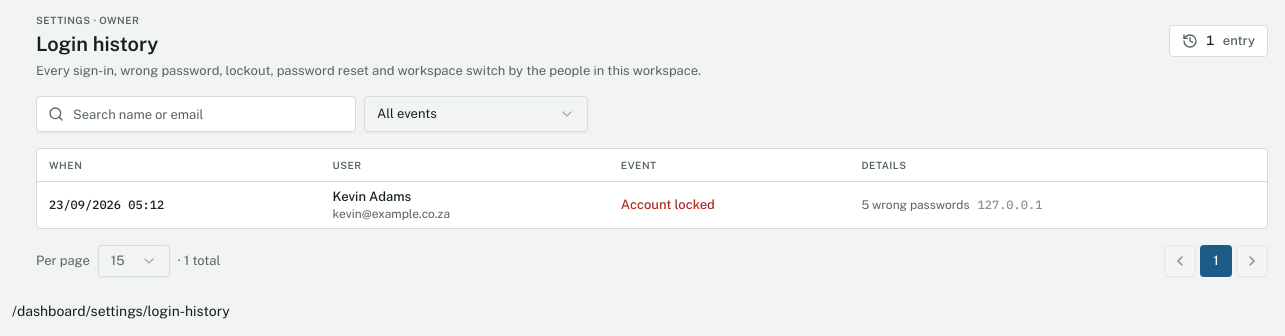
Test: LoginHistoryPage › searches after typing pauses and puts filters in the URL
The image size is (1285, 336).
Step 1. Type "kevin" into the search field labelled "Search name or email" → point(196, 114), box [36,96,356,132]
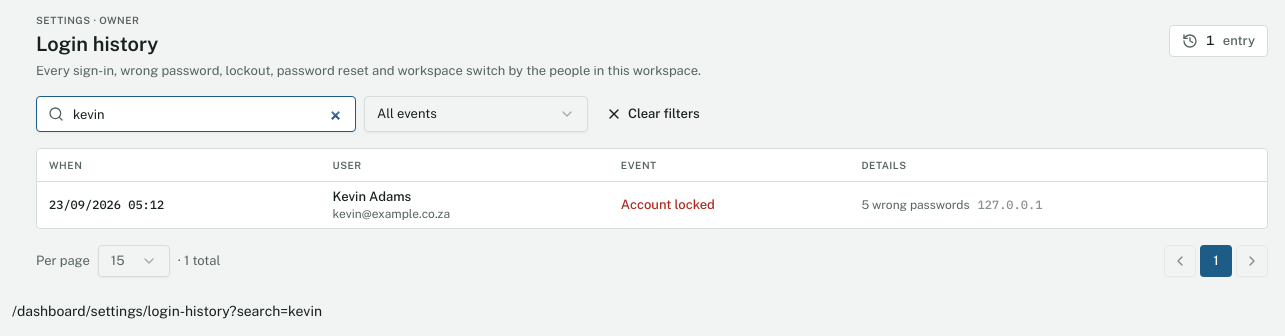
Expected: the text with test id "location" shows "search=kevin", [12,302,322,318]
